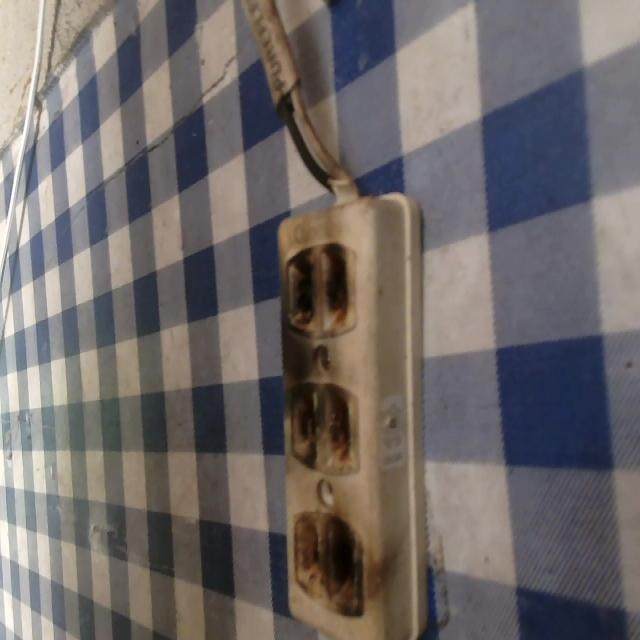-: (291, 507, 365, 616), (286, 380, 361, 477), (284, 243, 356, 340)
